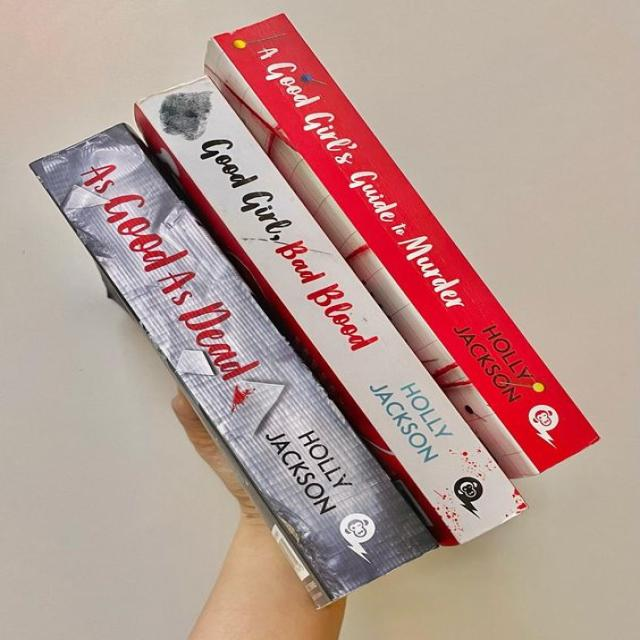book: (31, 125, 436, 605), (207, 15, 598, 478), (136, 76, 525, 541)
